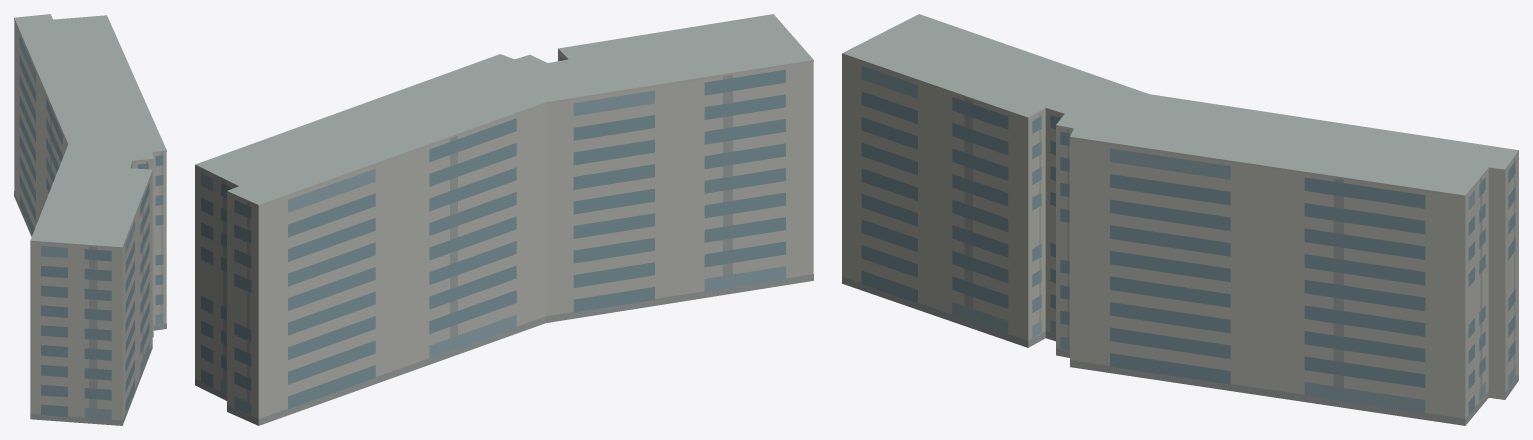
Rendered from survey-upis-32819197.glb.
3 views of the same model, side by side, from view 1: azimuth 30°, elevation 25°; view 2: azimuth 150°, elevation 25°; view 3: azimuth 270°, elevation 25° (orthographic). The views are drawn at different scales.
Visible parts, largest first — view 1: survey-upis-32819197.tmp; view 2: survey-upis-32819197.tmp; view 3: survey-upis-32819197.tmp.
Boxes of the visible parts, x1=… form: survey-upis-32819197.tmp: x1=14, y1=14, x2=166, y2=425; survey-upis-32819197.tmp: x1=195, y1=14, x2=813, y2=425; survey-upis-32819197.tmp: x1=842, y1=14, x2=1518, y2=425.
Bounding box in the file's own units: 46.41 × 27.45 × 73.1.
